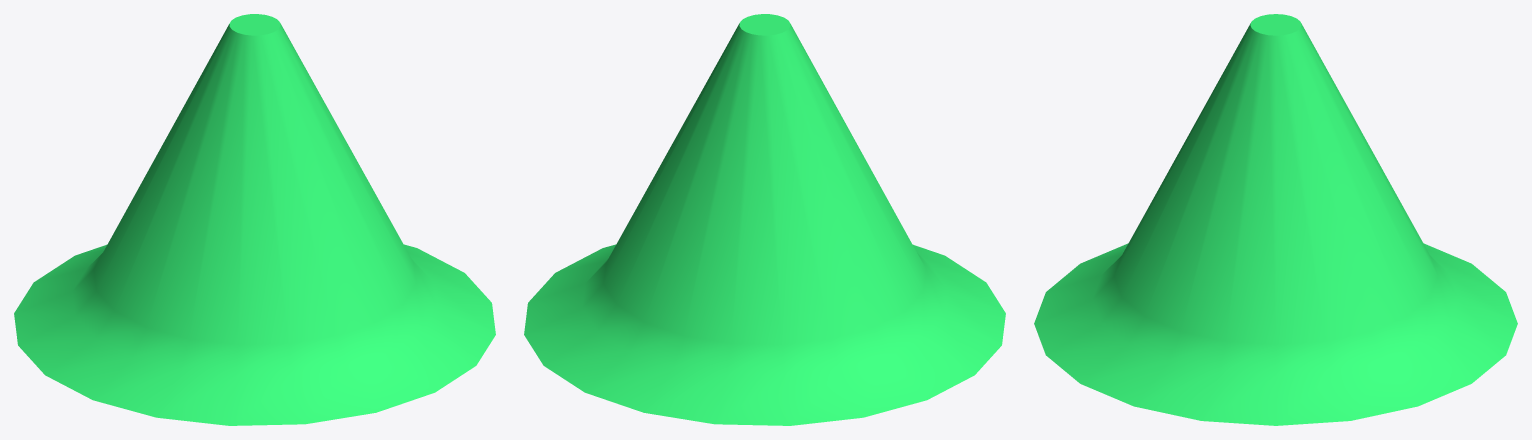
The model's file is Cone Green.fbx.
3 views of the same model, side by side, from view 1: azimuth 30°, elevation 25°; view 2: azimuth 150°, elevation 25°; view 3: azimuth 270°, elevation 25° (orthographic).
Parts seen in each view (by area): view 1: Cone Green; view 2: Cone Green; view 3: Cone Green.
Boxes of the visible parts, box(x1,y1,x2,y2) form: Cone Green: box(14, 14, 495, 425); Cone Green: box(524, 14, 1005, 425); Cone Green: box(1034, 14, 1517, 425).
Bounding box in the file's own units: 70.61 × 48.12 × 70.61.
